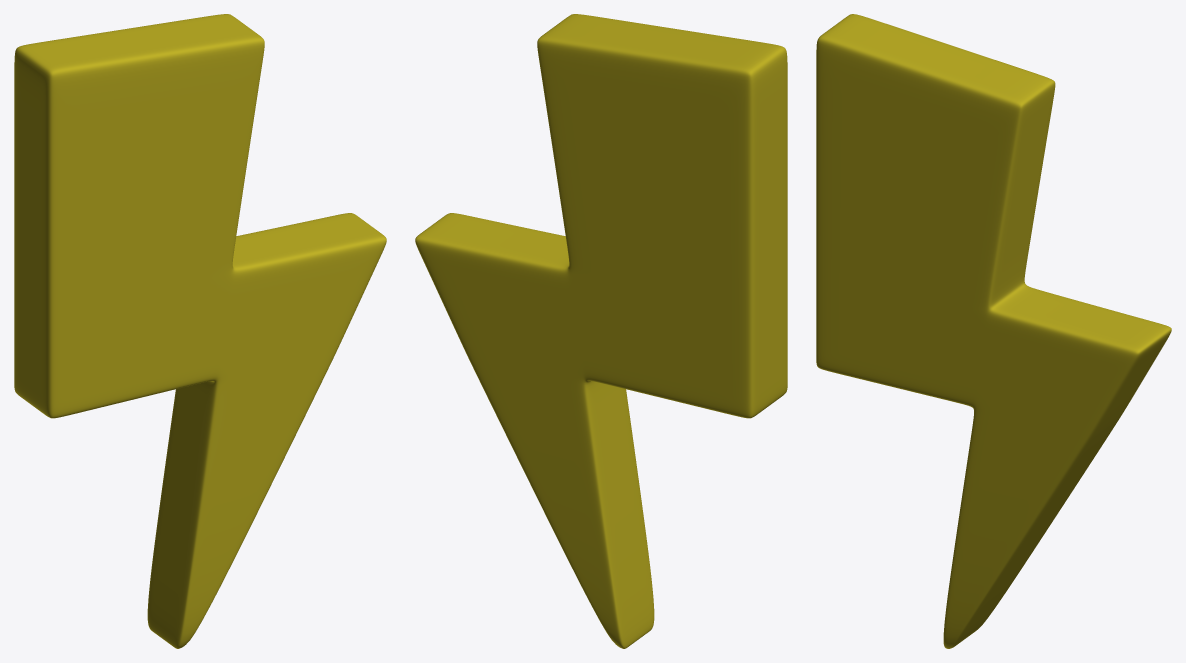
Rendered from flashfin.glb.
3 views of the same model, side by side, from view 1: azimuth 30°, elevation 25°; view 2: azimuth 150°, elevation 25°; view 3: azimuth 330°, elevation 25° (orthographic). The views are drawn at different scales.
Visible parts, largest first — view 1: Plane.005; view 2: Plane.005; view 3: Plane.005.
Part boxes in pixels (left/top/right/bottom): Plane.005: left=14, top=14, right=386, bottom=648; Plane.005: left=415, top=14, right=787, bottom=648; Plane.005: left=816, top=14, right=1171, bottom=648.
Bounding box in the file's own units: 1.13 × 1.95 × 0.2228.
